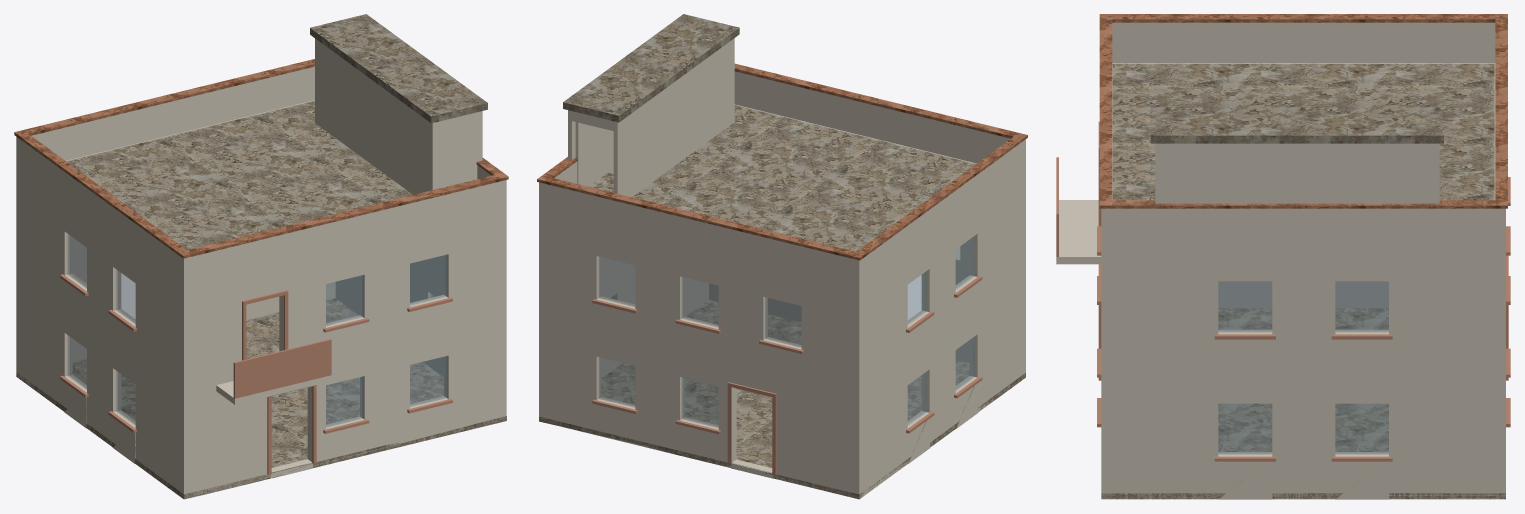
Rendered from bay-villa-cream.zfix-v9.lod1.glb.
3 views of the same model, side by side, from view 1: azimuth 30°, elevation 25°; view 2: azimuth 150°, elevation 25°; view 3: azimuth 270°, elevation 25° (orthographic). The views are drawn at different scales.
Parts seen in each view (by area): view 1: bay-villa-cream; view 2: bay-villa-cream; view 3: bay-villa-cream.
Part boxes in pixels (x1,y1,x2,y2): bay-villa-cream: (14, 14, 508, 499); bay-villa-cream: (537, 14, 1027, 499); bay-villa-cream: (1056, 14, 1510, 499).
Bounding box in the file's own units: 10.2 × 8.96 × 10.1.
Materials: 3 (1 with a texture image).
